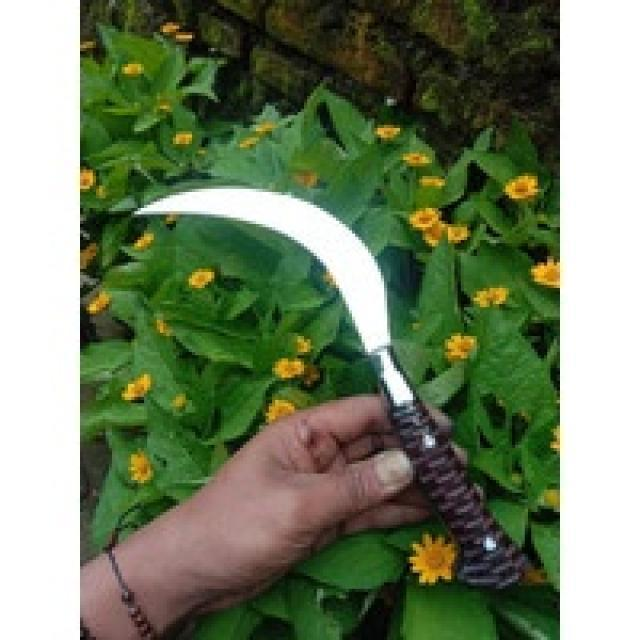Knife: (135, 188, 530, 594)
